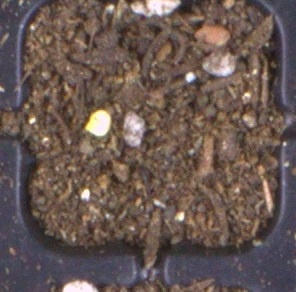chilli seed: (84, 109, 111, 137)
